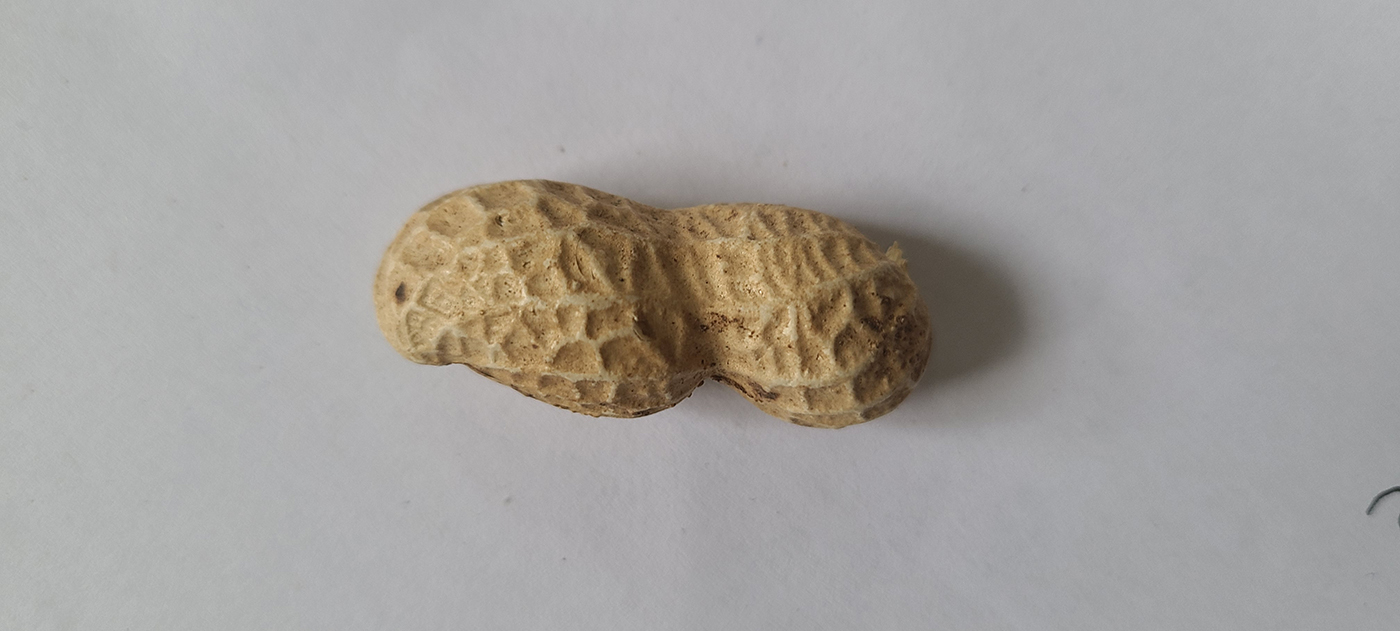h: (370, 179, 936, 432)
